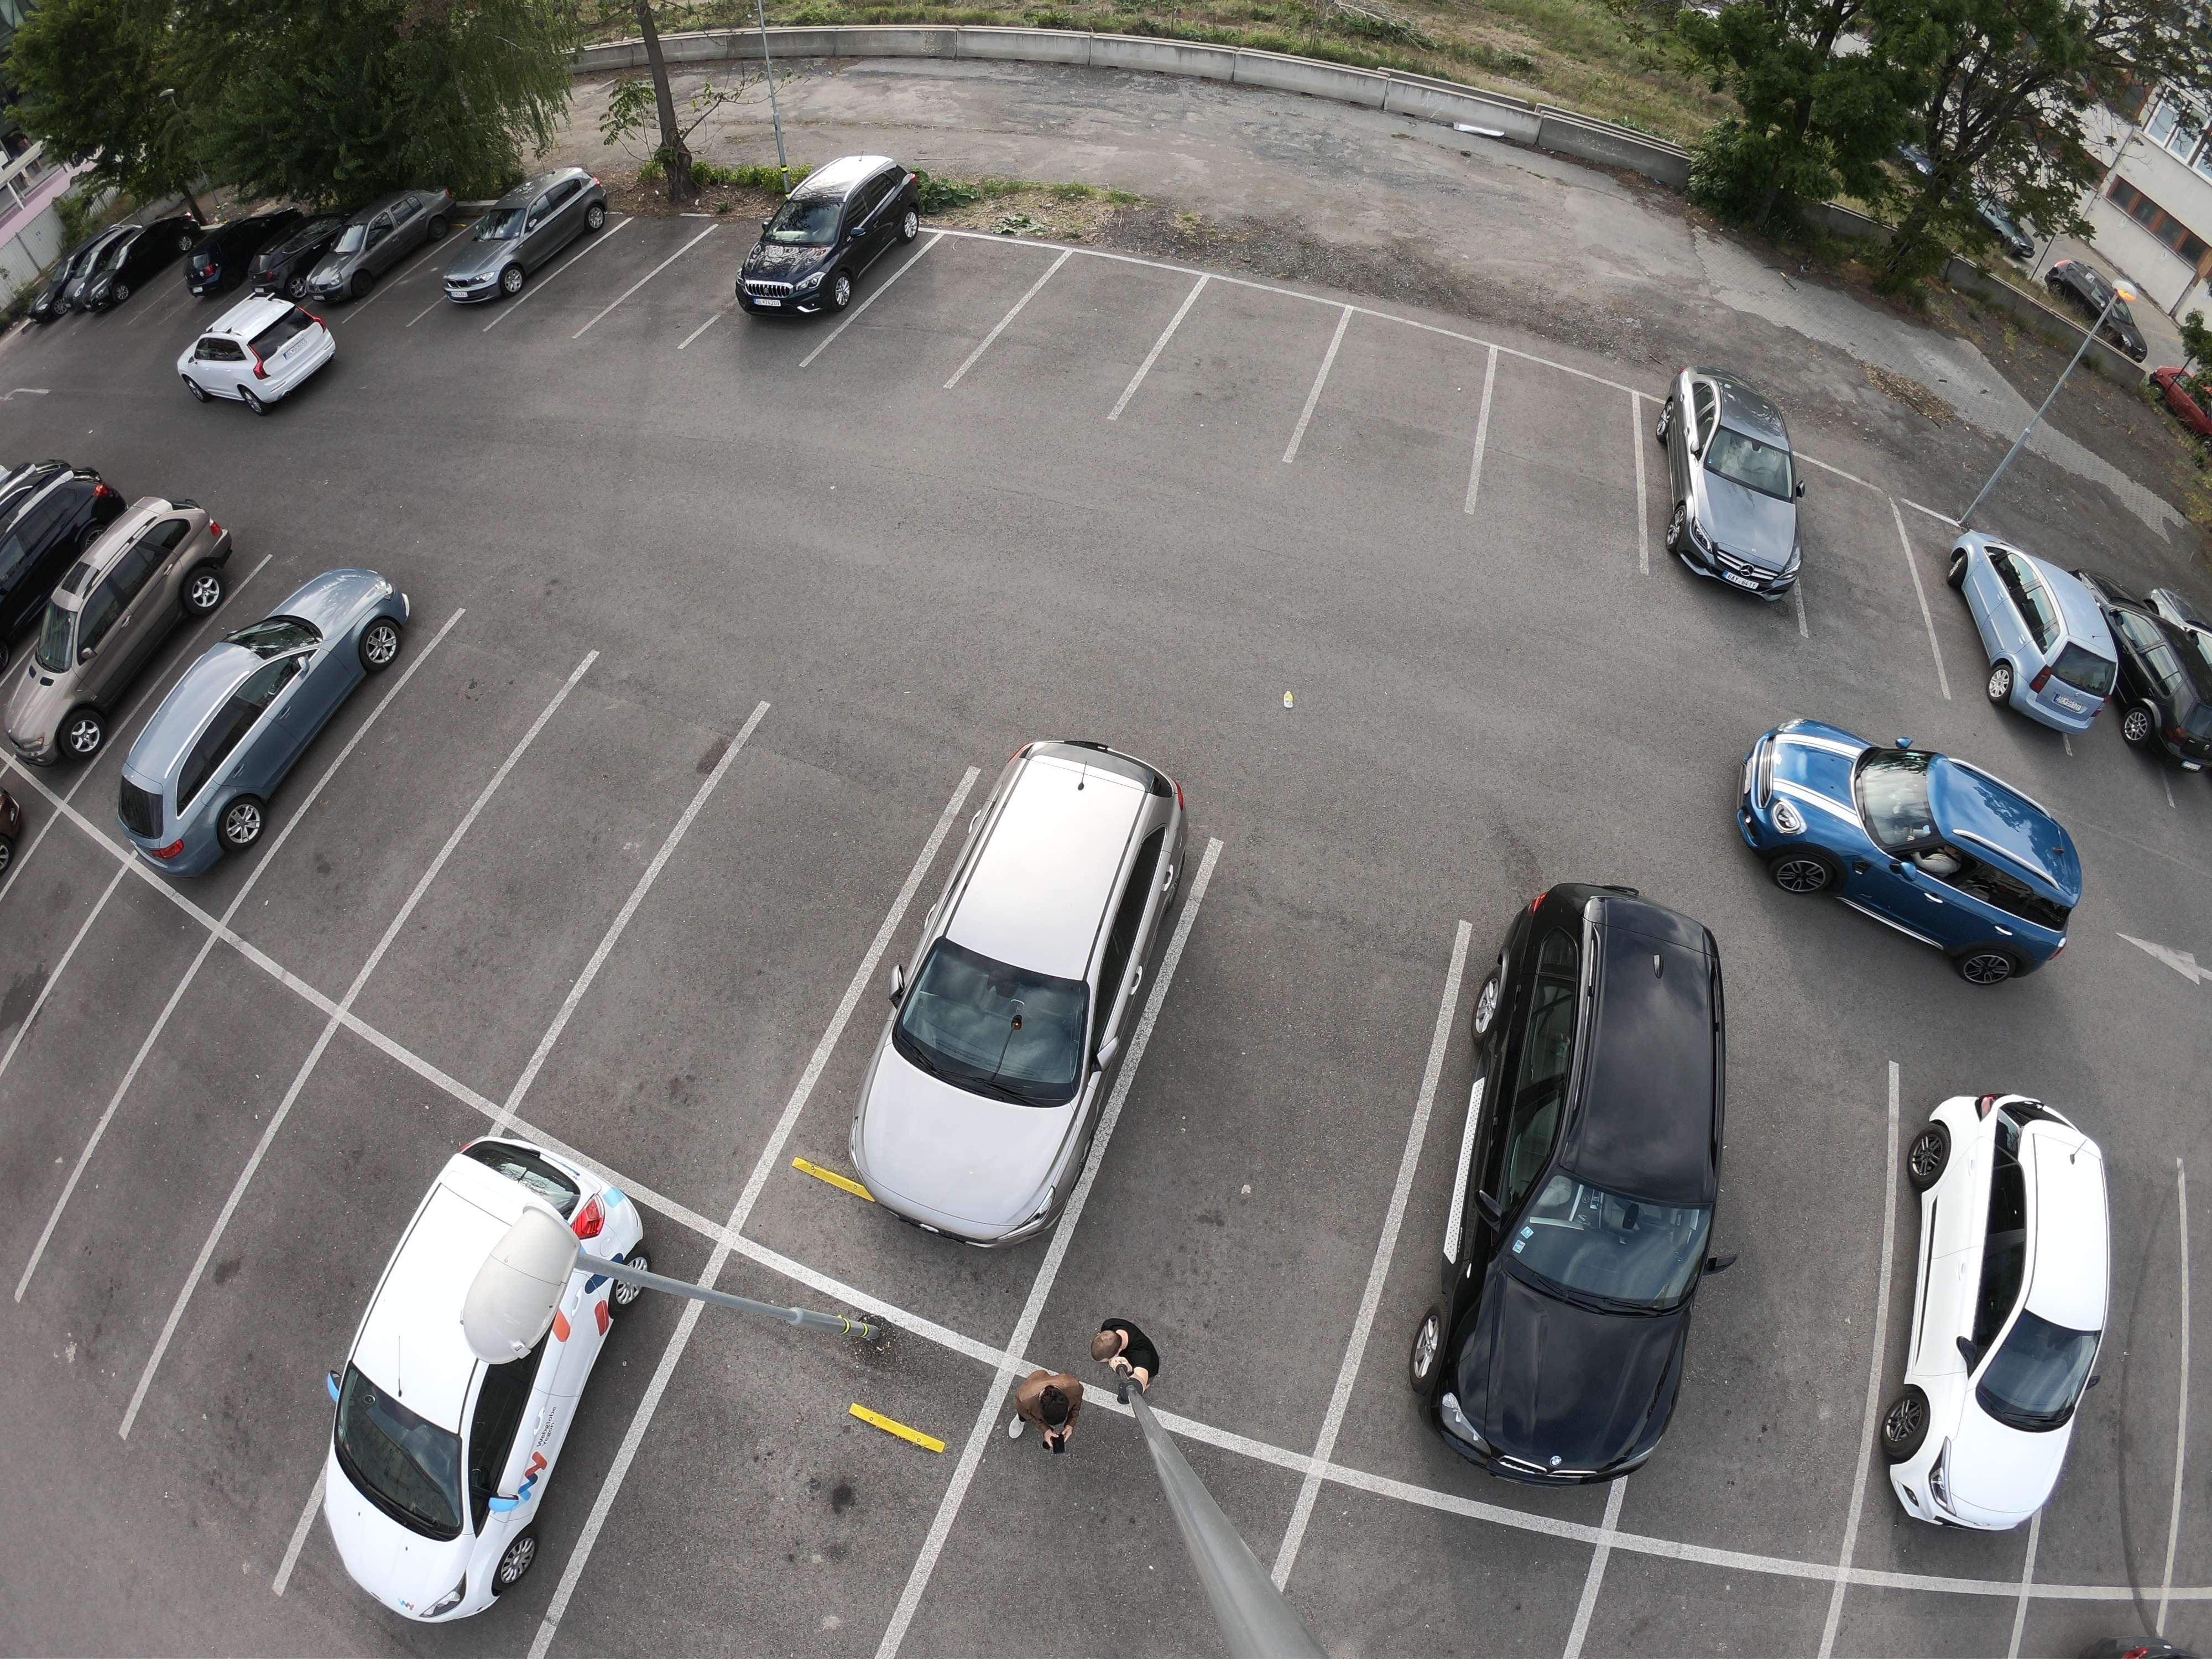empty: (1414, 831, 1796, 1473), (272, 1119, 667, 1629), (829, 713, 1190, 1244), (1892, 1065, 2149, 1553), (122, 566, 411, 868), (1723, 723, 2087, 960), (12, 486, 230, 760), (1637, 356, 1832, 610), (1933, 540, 2149, 741), (725, 150, 927, 324), (435, 176, 603, 317), (172, 286, 338, 413), (286, 192, 456, 314), (2120, 605, 2205, 777), (45, 204, 174, 315), (167, 199, 284, 307)
occupied: (1141, 1002, 1392, 1298), (965, 1476, 1256, 1645), (617, 1467, 866, 1659), (221, 1176, 416, 1356), (643, 861, 843, 1035), (467, 795, 625, 946), (338, 728, 484, 859), (105, 1082, 240, 1220), (33, 981, 152, 1089), (1496, 415, 1632, 507), (1338, 366, 1465, 458), (1181, 328, 1310, 416), (0, 849, 84, 971), (1806, 526, 1905, 620), (1028, 295, 1139, 366), (909, 272, 1000, 336), (672, 242, 744, 300), (585, 234, 655, 282)
